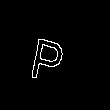P_N: (34, 26, 76, 84)
